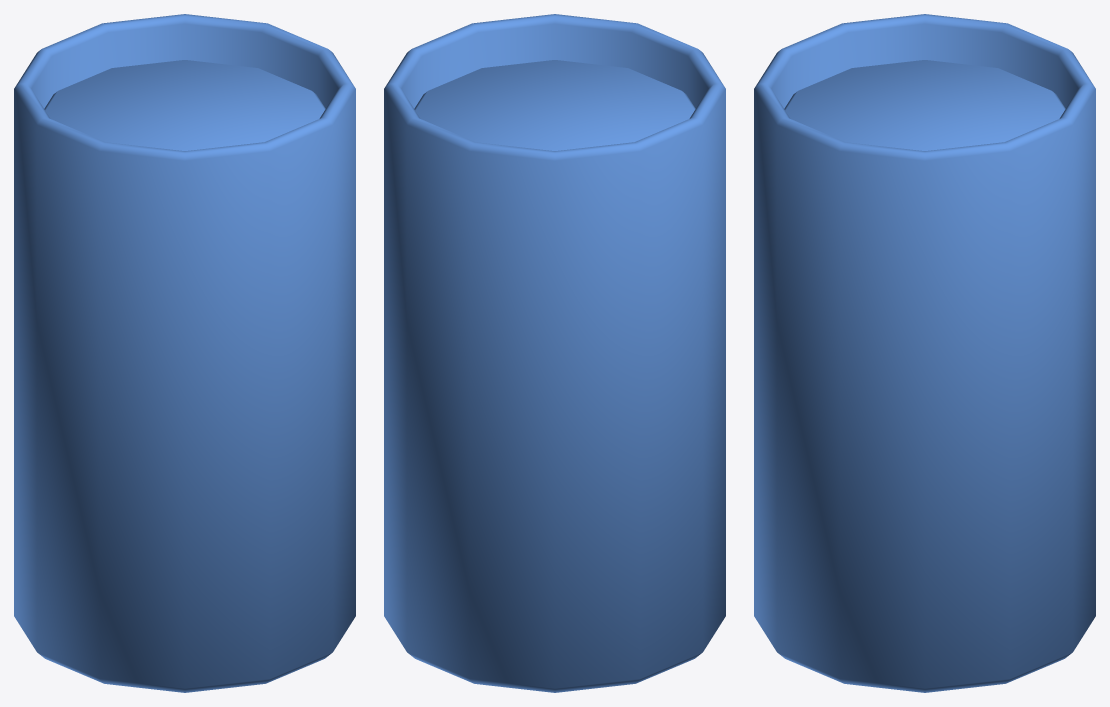
The model's file is Glass.fbx.
3 renders of one model, left to right at view 1: azimuth 30°, elevation 25°; view 2: azimuth 150°, elevation 25°; view 3: azimuth 270°, elevation 25°, orthographic.
Visible parts, largest first — view 1: Cylinder.016; view 2: Cylinder.016; view 3: Cylinder.016.
Part boxes in pixels (box(x1,y1,x2,y2)): Cylinder.016: box(14, 14, 355, 692); Cylinder.016: box(384, 14, 725, 692); Cylinder.016: box(754, 14, 1095, 692).
Size of the model in its own units: 17.81 by 31.1 by 17.81.
